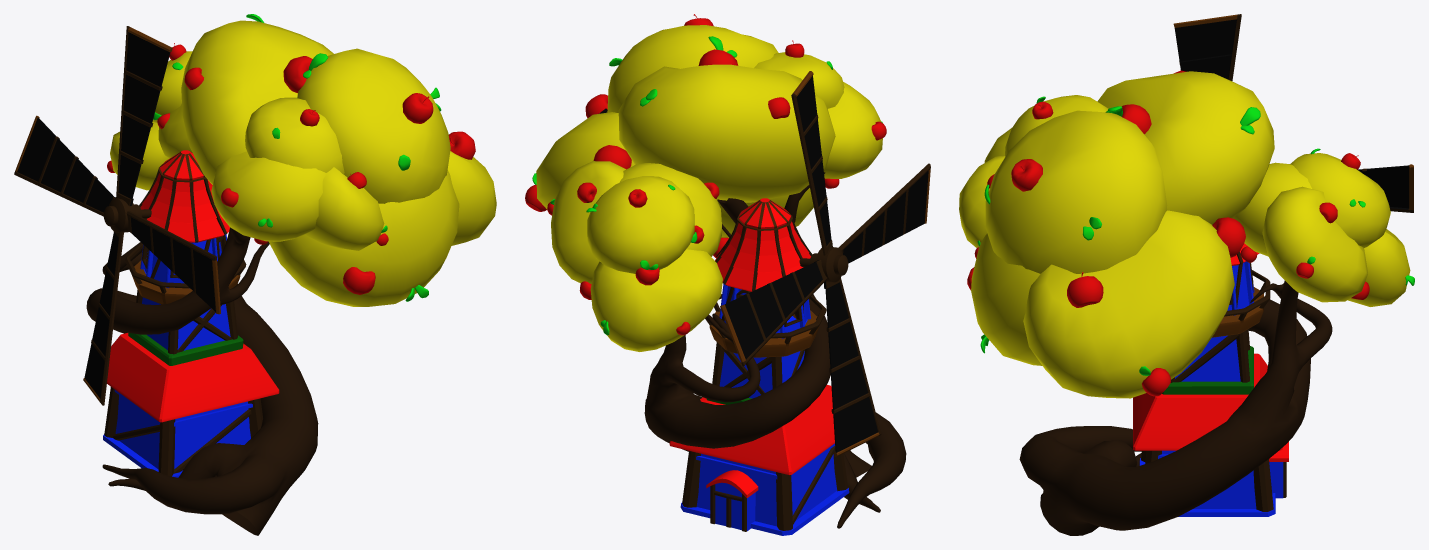
Rendered from WINDMILL ID MAPPED.fbx.
3 views of the same model, side by side, from view 1: azimuth 30°, elevation 25°; view 2: azimuth 150°, elevation 25°; view 3: azimuth 270°, elevation 25° (orthographic). The views are drawn at different scales.
Parts seen in each view (by area): view 1: Tree_windmill, Windmill1, Windmill_rotating_part; view 2: Tree_windmill, Windmill1, Windmill_rotating_part; view 3: Tree_windmill, Windmill1, Windmill_rotating_part.
Part boxes in pixels (x1,y1,x2,y2): Tree_windmill: (86,14,496,535); Windmill1: (103,150,279,477); Windmill_rotating_part: (14,26,220,405); Tree_windmill: (525,14,906,528); Windmill1: (669,198,849,535); Windmill_rotating_part: (720,71,930,456); Tree_windmill: (959,70,1414,535); Windmill1: (1133,243,1288,516); Windmill_rotating_part: (1173,14,1413,212).
Size of the model in its own units: 35.75 by 44.16 by 36.71.
